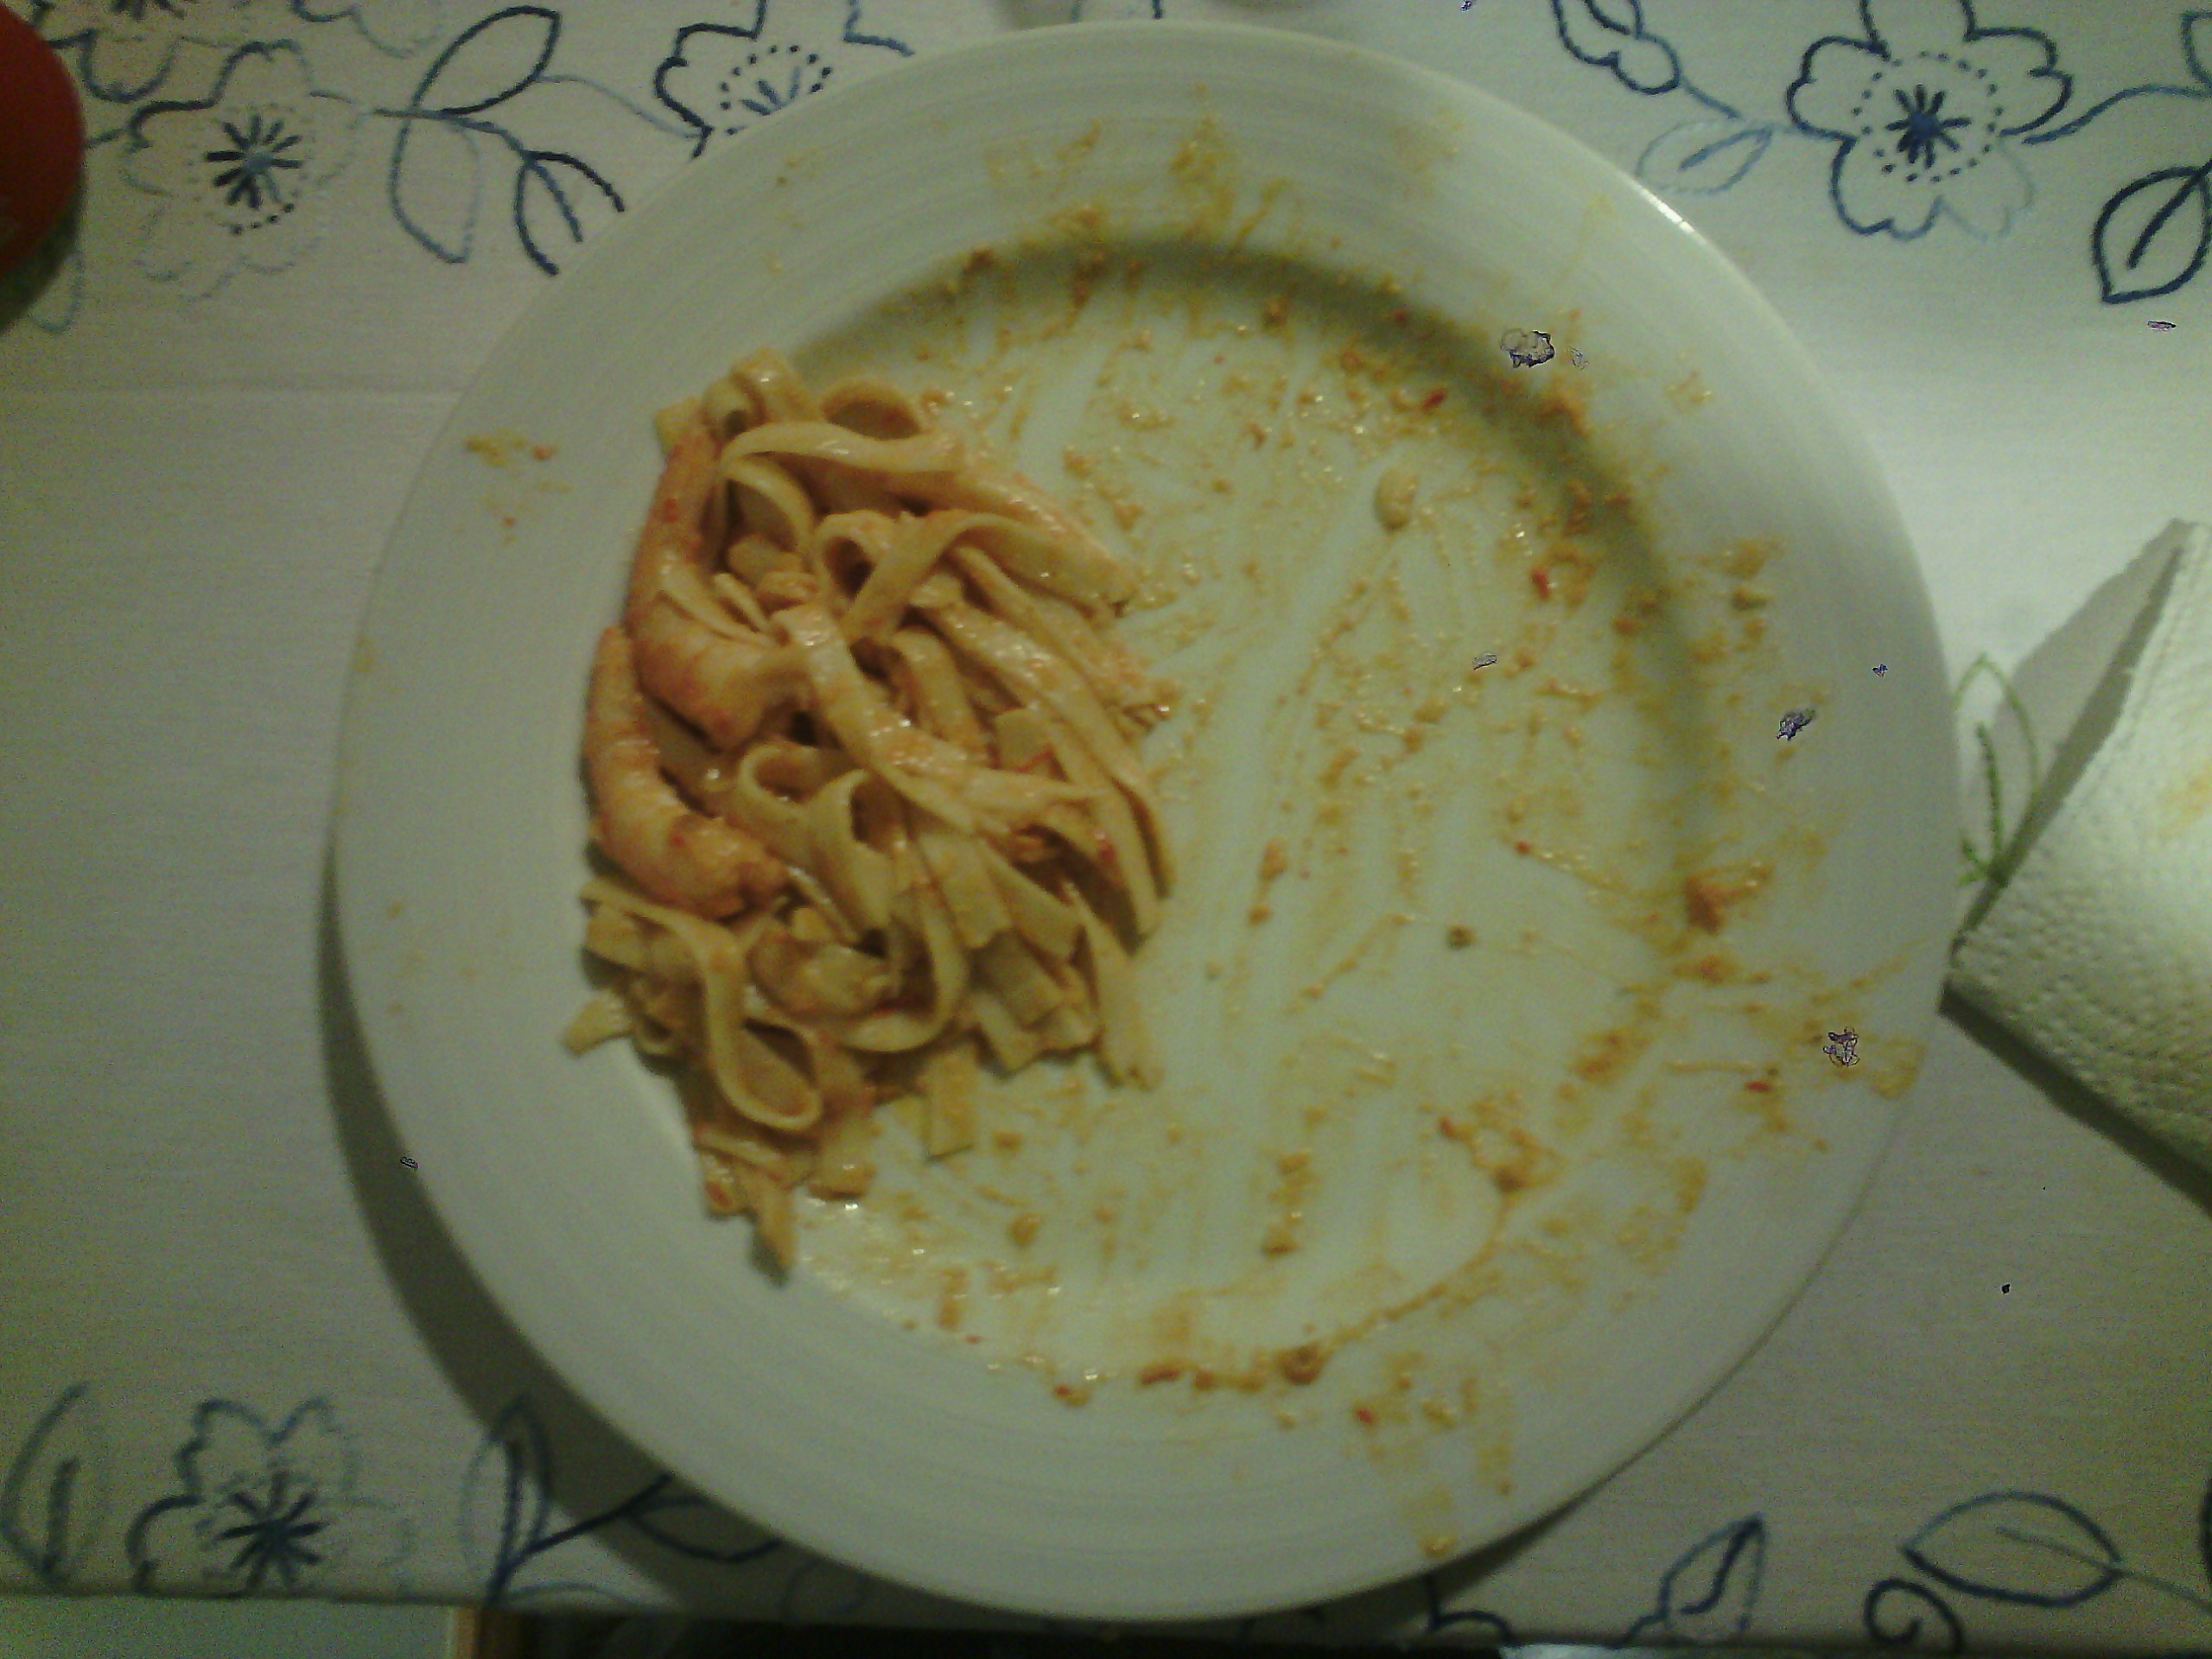21-40: (341, 24, 1951, 1619)
